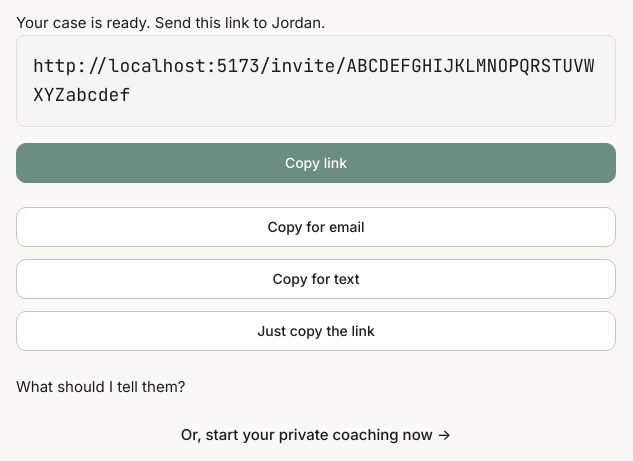
Scenario: AC: Copy button shows 'Copied!' feedback for 2 seconds › shows 'Copied!' after clicking 'Copy link' button
Click the button "Copy link" at (316, 163), box [16, 143, 616, 183]
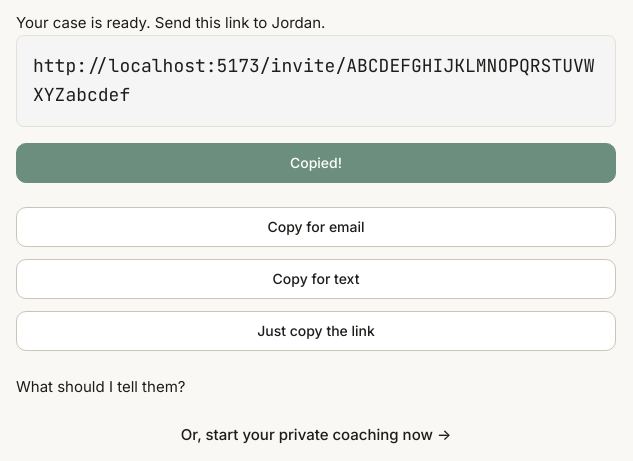
Now the button "Copied!" is shown, box [16, 143, 616, 183]
